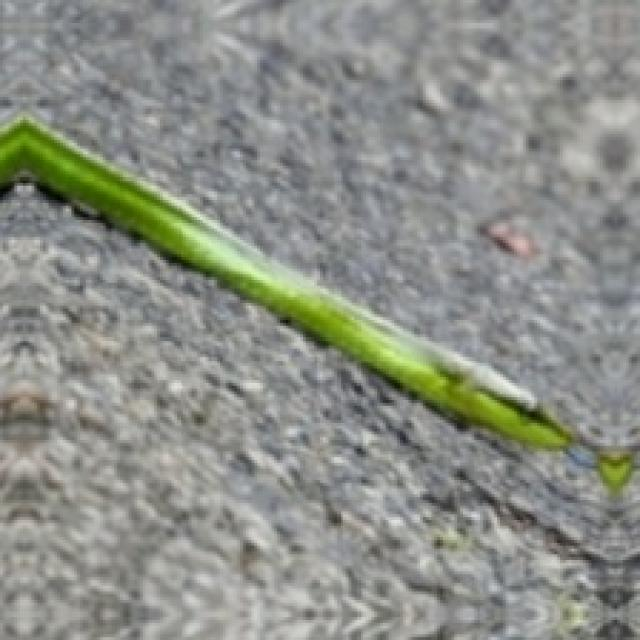red-tailed green ratsnake: (0, 114, 571, 446)
